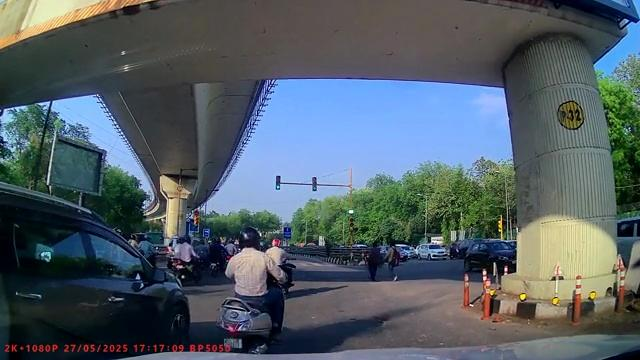motorcycle_with_helmet: (216, 225, 289, 352)
